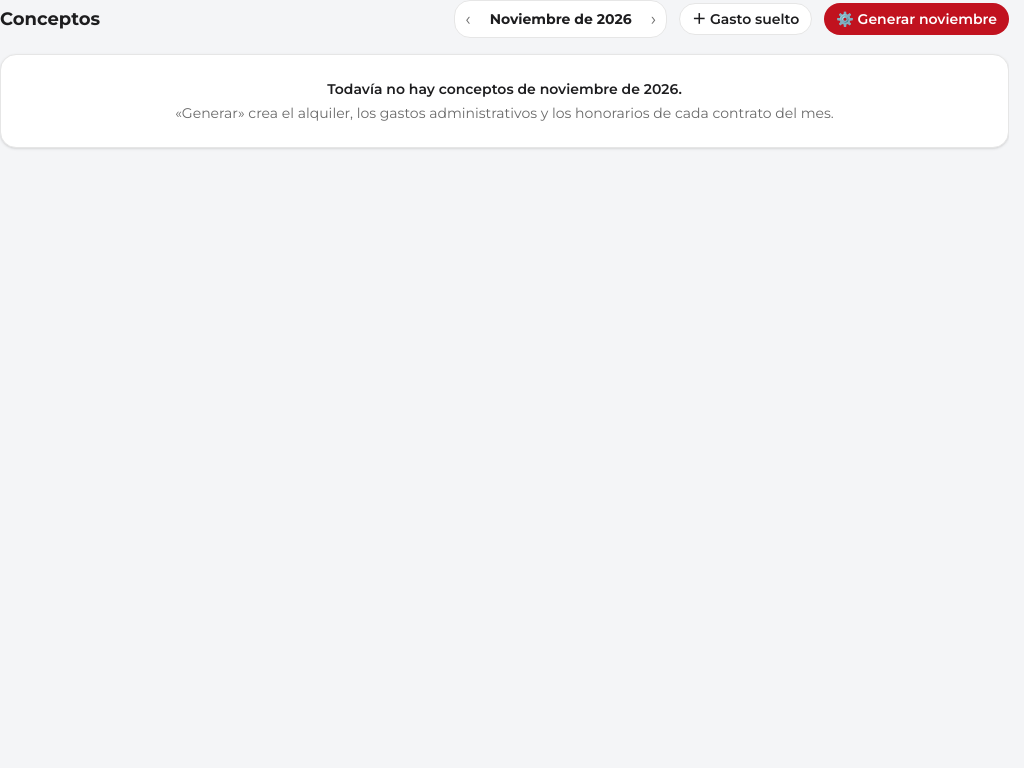
Scenario: ConceptosMes › gasto suelto: arranca sin contrato y no guarda hasta elegirlo
This screenshot has width=1024, height=768.
Click the button "＋ Gasto suelto": [746, 19] box [679,3,812,35]
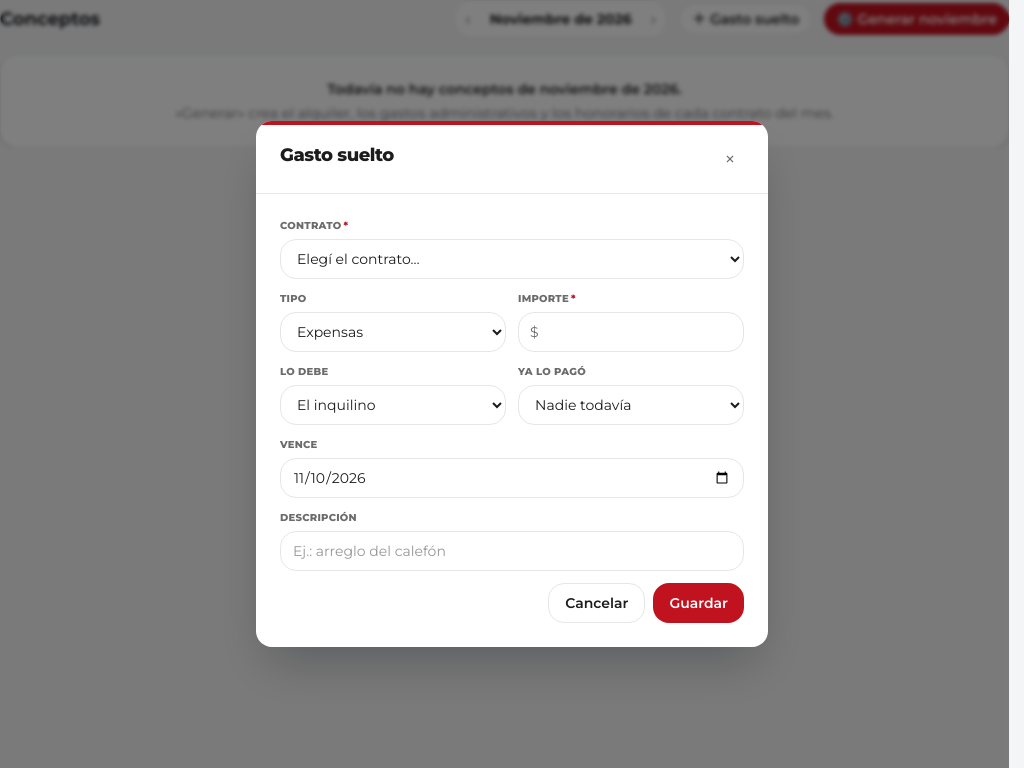
Expected: the dropdown labelled "Contrato*" shows "Elegí el contrato…", [280,239,744,279]
In the field labelled "Importe* $": [631, 332] box [518,312,744,352], type "1000"
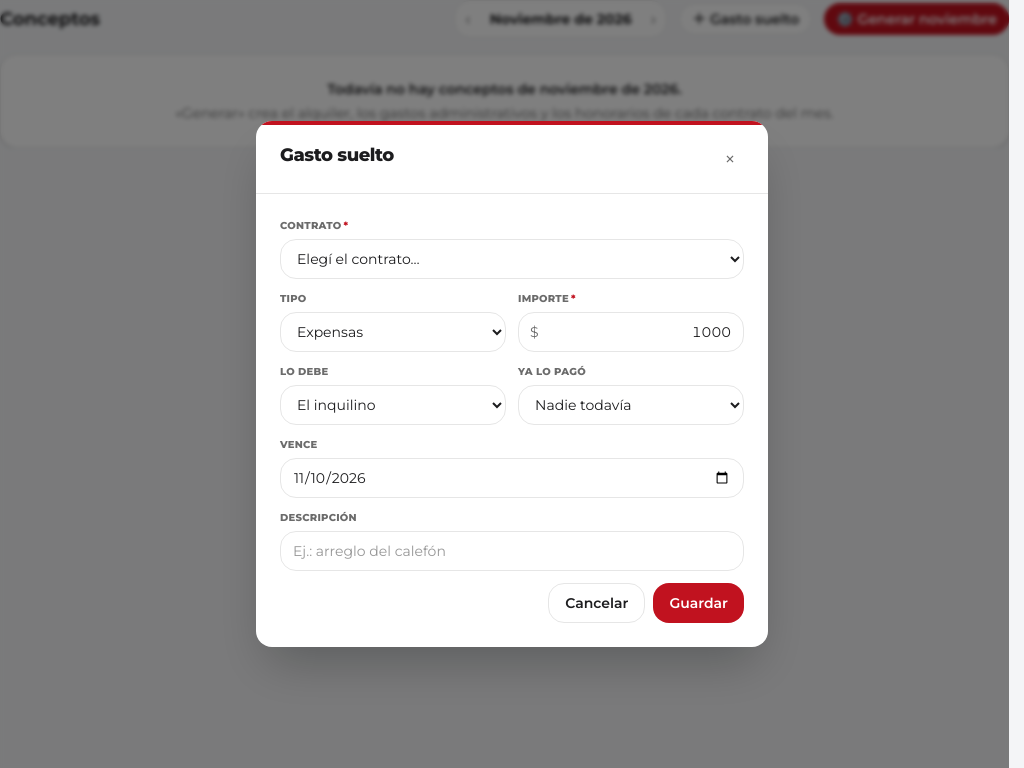
Submit the form "Guardar", box [280,218,744,623]
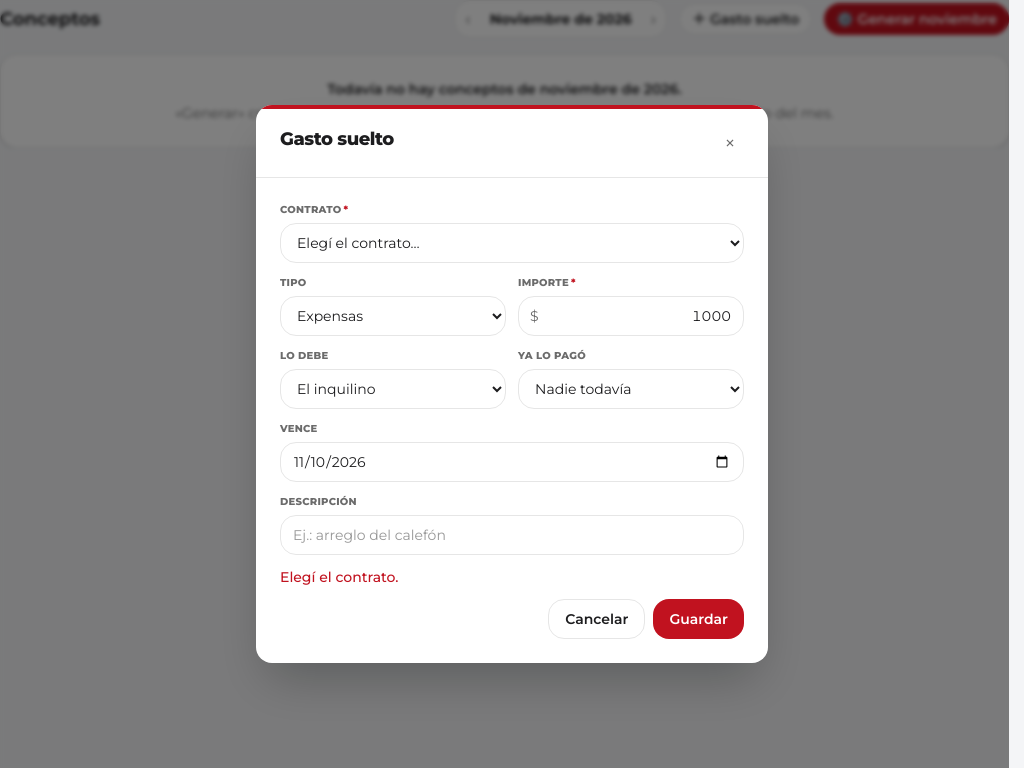
Expected: the text "Elegí el contrato." is shown, [280,568,398,586]
